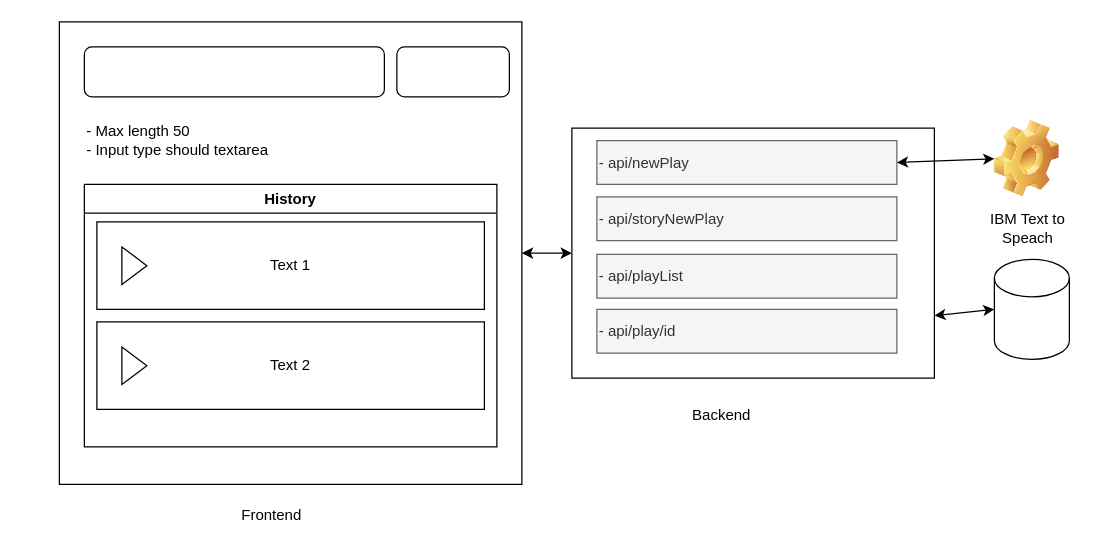
The diagram is 1105 pixels wide and 556 high, and some of its shapes have lost their labels. Each missing label, with the box of its shape:
Hello World: (83, 46, 384, 97)
Mongo: (993, 258, 1069, 359)
Play: (396, 46, 509, 97)
